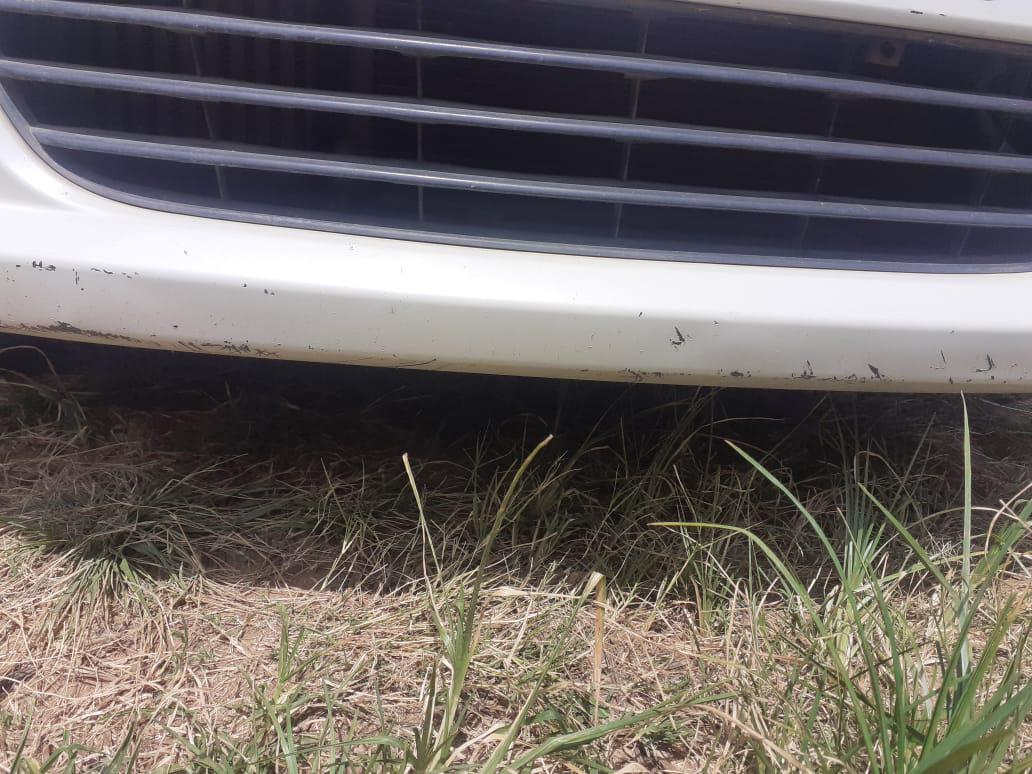front-bumper-dent: (0, 55, 1031, 415)
